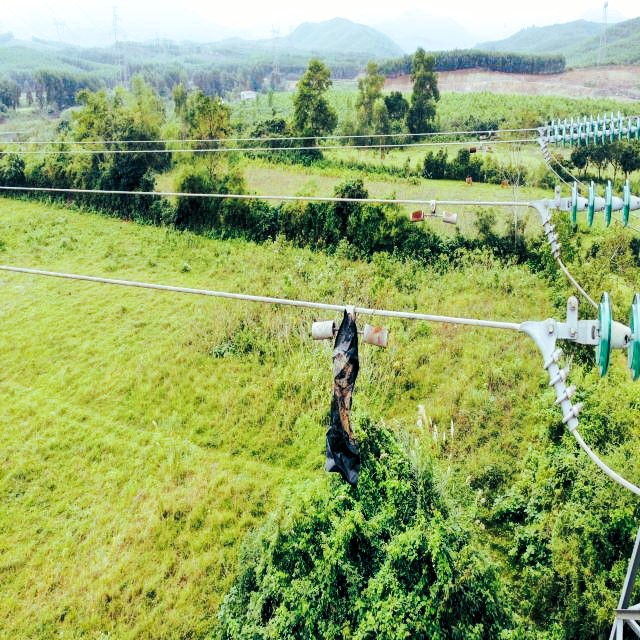wire foreign body: (306, 288, 388, 469)
